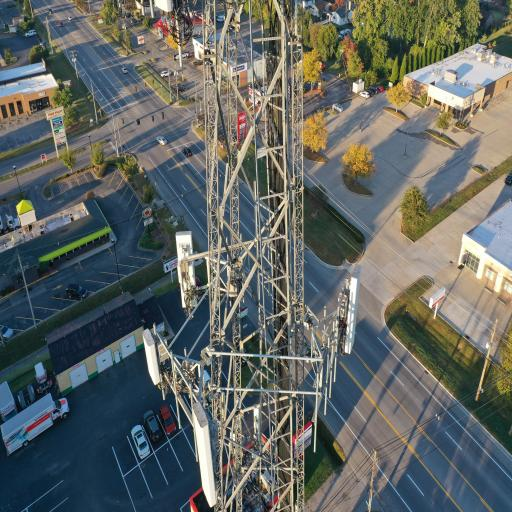supporting_tower: (133, 0, 362, 512)
